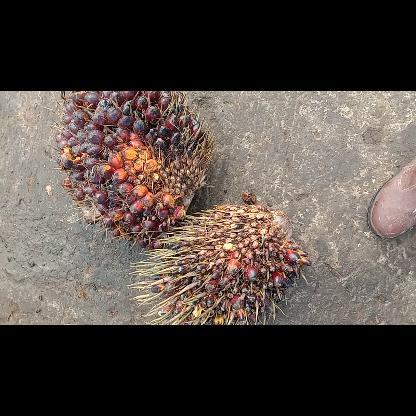Kurang masak: (52, 91, 214, 249)
TBS abnormal: (129, 204, 311, 324)
